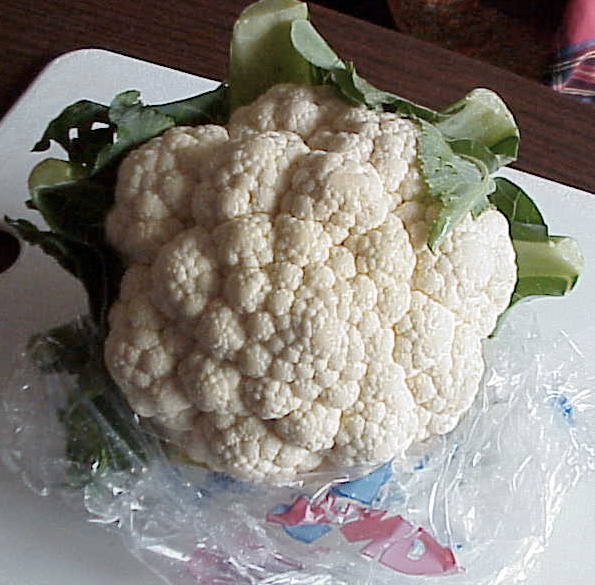cauliflower: (2, 1, 577, 492)
